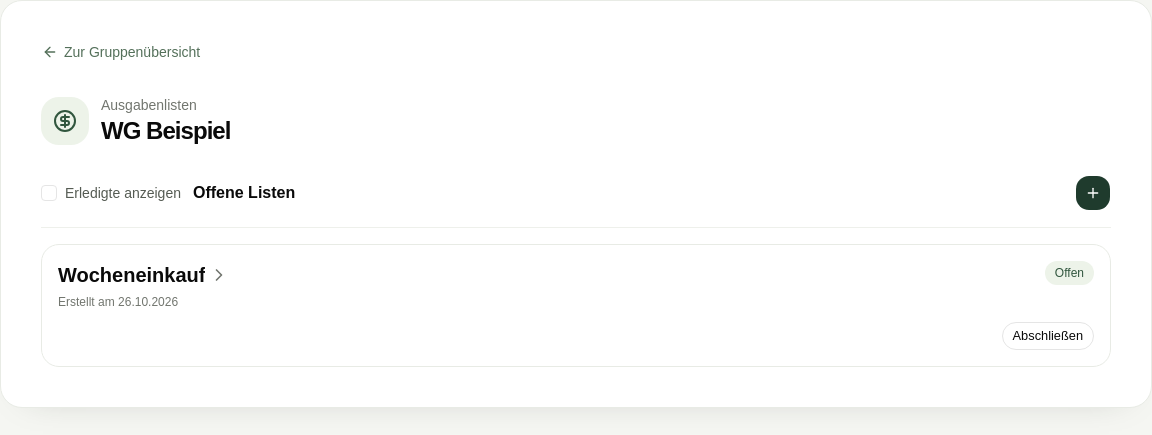
Test case: ExpenseLists › completes an open list after confirmation and reloads
Click the button "Abschließen" at (1048, 336), box 1002,322 -> 1094,350
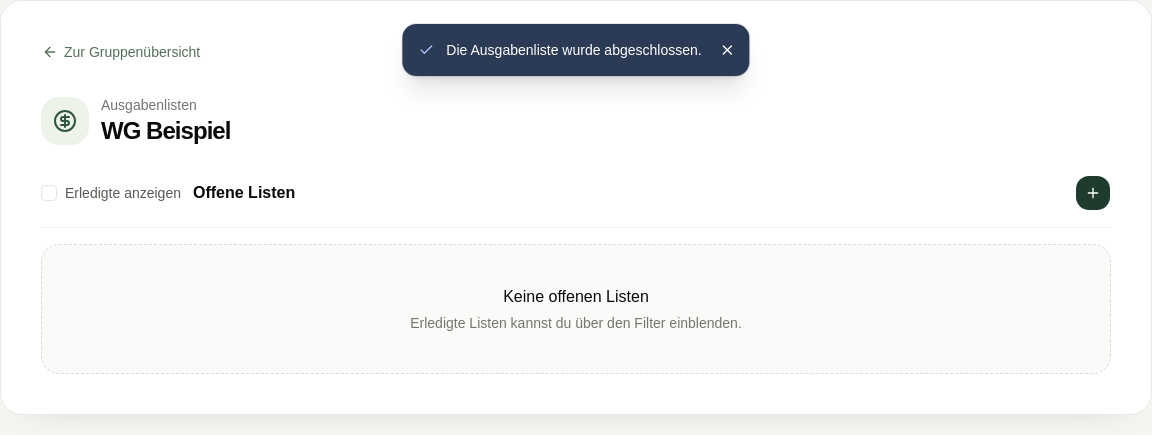
Expected: the message reads "Die Ausgabenliste wurde abgeschlossen.", 446,42 -> 702,58
